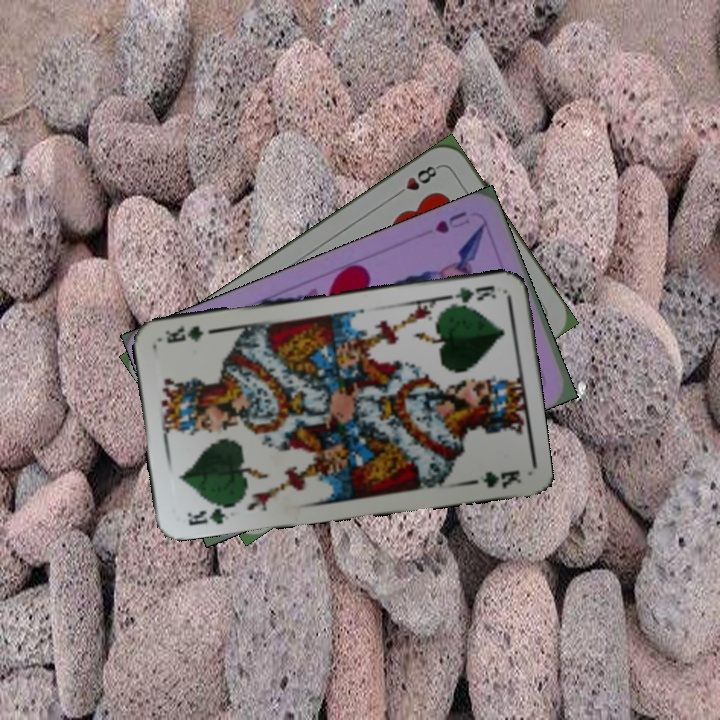GK: (183, 498, 238, 529), (444, 281, 499, 310)
H8: (390, 161, 443, 200)
HU: (431, 207, 473, 236)
